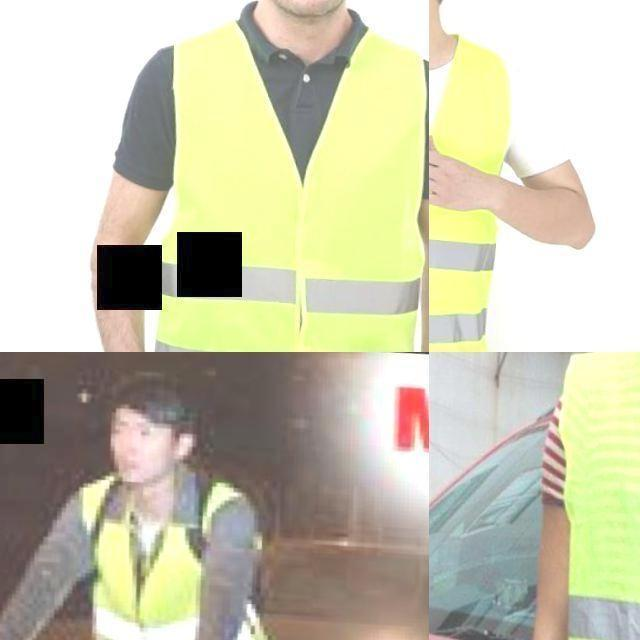vest: (121, 15, 429, 352), (51, 463, 263, 640), (523, 352, 640, 640), (429, 17, 529, 352)
